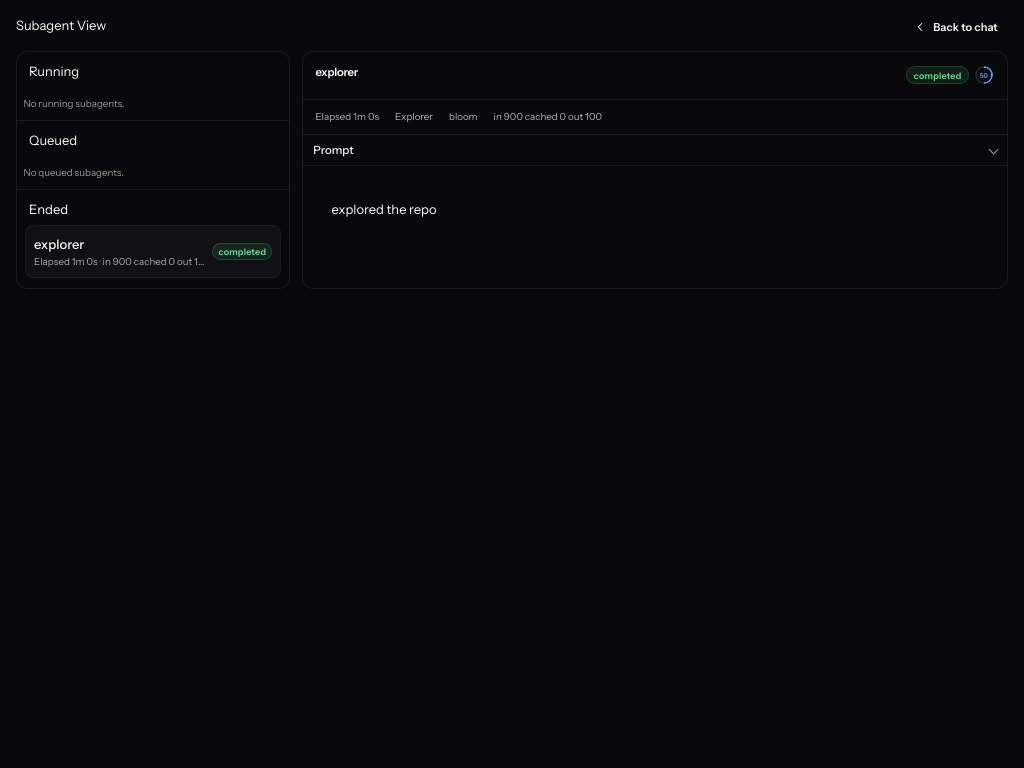
Test: SubagentView context ring › renders the radial for the selected subagent with the chain model window
expect the progress indicator with class "orchid-footer-context-radial" is shown: met, box [974,66,993,84]
Click the button with class "orchid-footer-context-btn" at (984, 75), box [972,64,995,87]
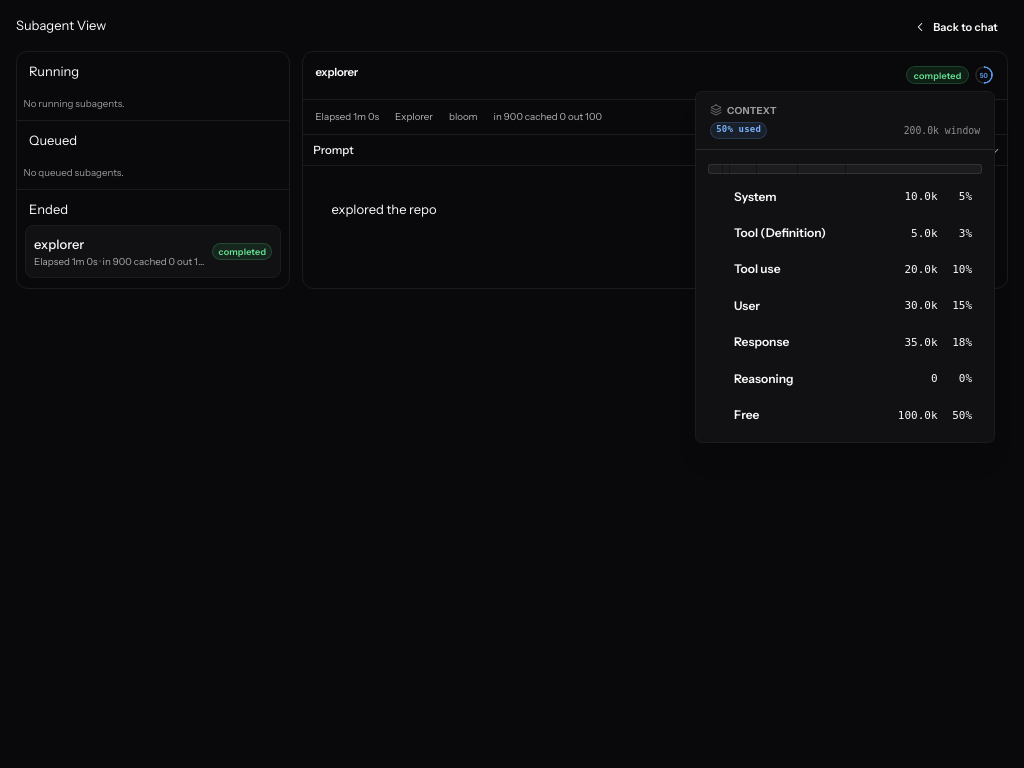
expect the dialog shows "200.0k window": met, box [695,91,995,443]
